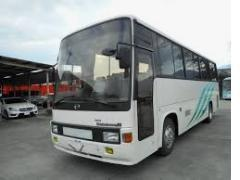bus: (47, 14, 221, 165)
